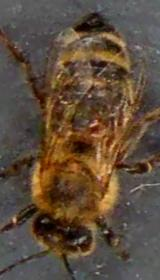varroa_mite: (80, 112, 112, 140)
